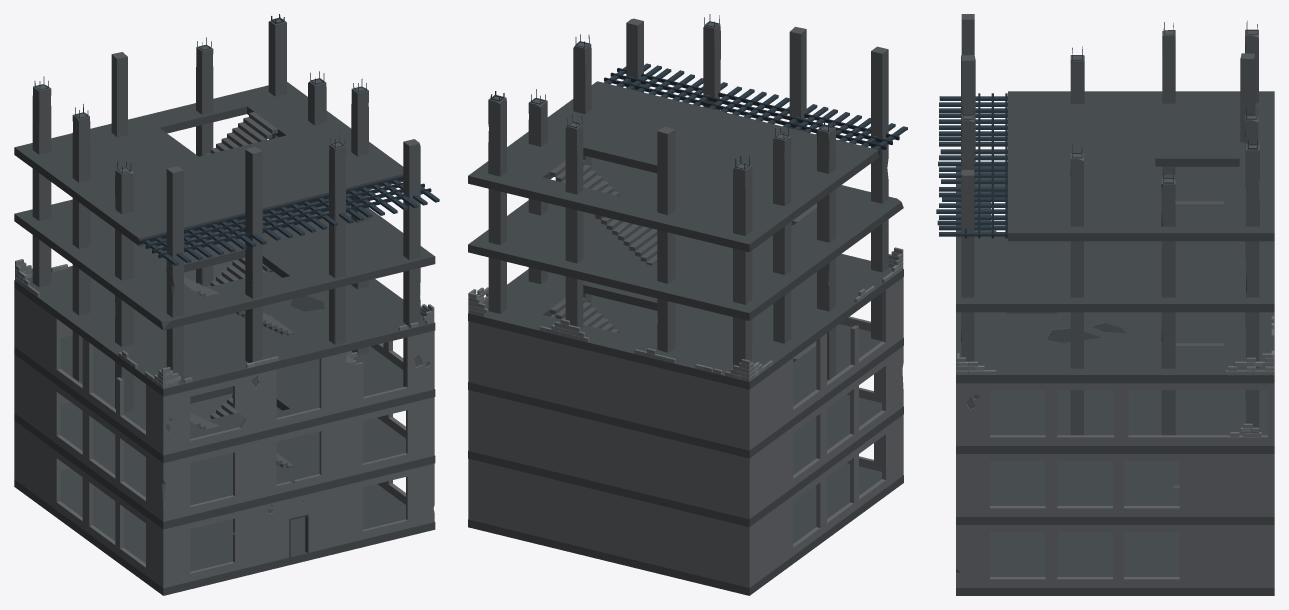
File: SM_Buildings_Construction_01.fbx
3 views of the same model, side by side, from view 1: azimuth 30°, elevation 25°; view 2: azimuth 150°, elevation 25°; view 3: azimuth 270°, elevation 25° (orthographic). The views are drawn at different scales.
Parts seen in each view (by area): view 1: SM_Buildings_Construction_01; view 2: SM_Buildings_Construction_01; view 3: SM_Buildings_Construction_01.
Part boxes in pixels (<box>): SM_Buildings_Construction_01: <box>14,14,439,595</box>; SM_Buildings_Construction_01: <box>468,14,907,595</box>; SM_Buildings_Construction_01: <box>936,14,1274,595</box>.
Size of the model in its own units: 15 by 22.03 by 15.12.
